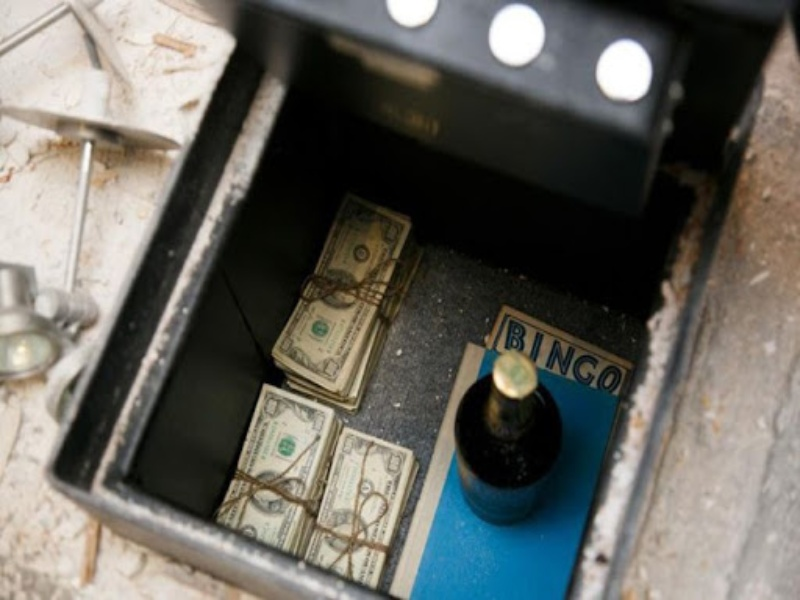cash: (271, 197, 420, 413), (217, 384, 345, 560), (302, 427, 417, 592)
